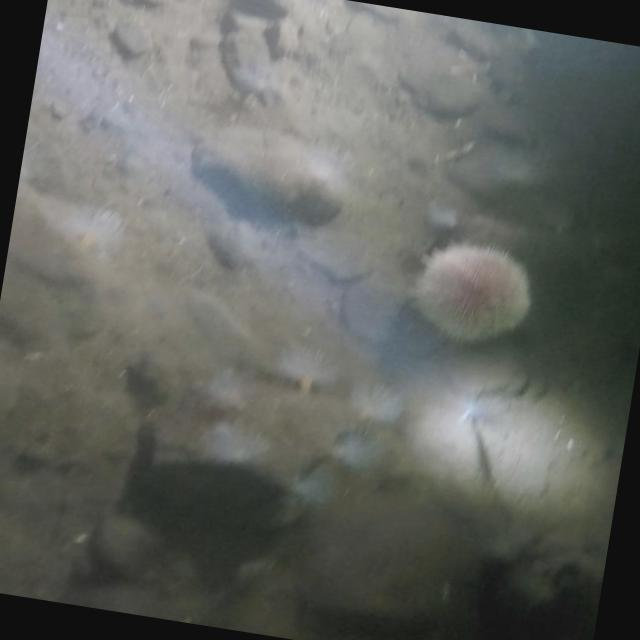Deniz Kestanesi: (404, 232, 540, 351)
